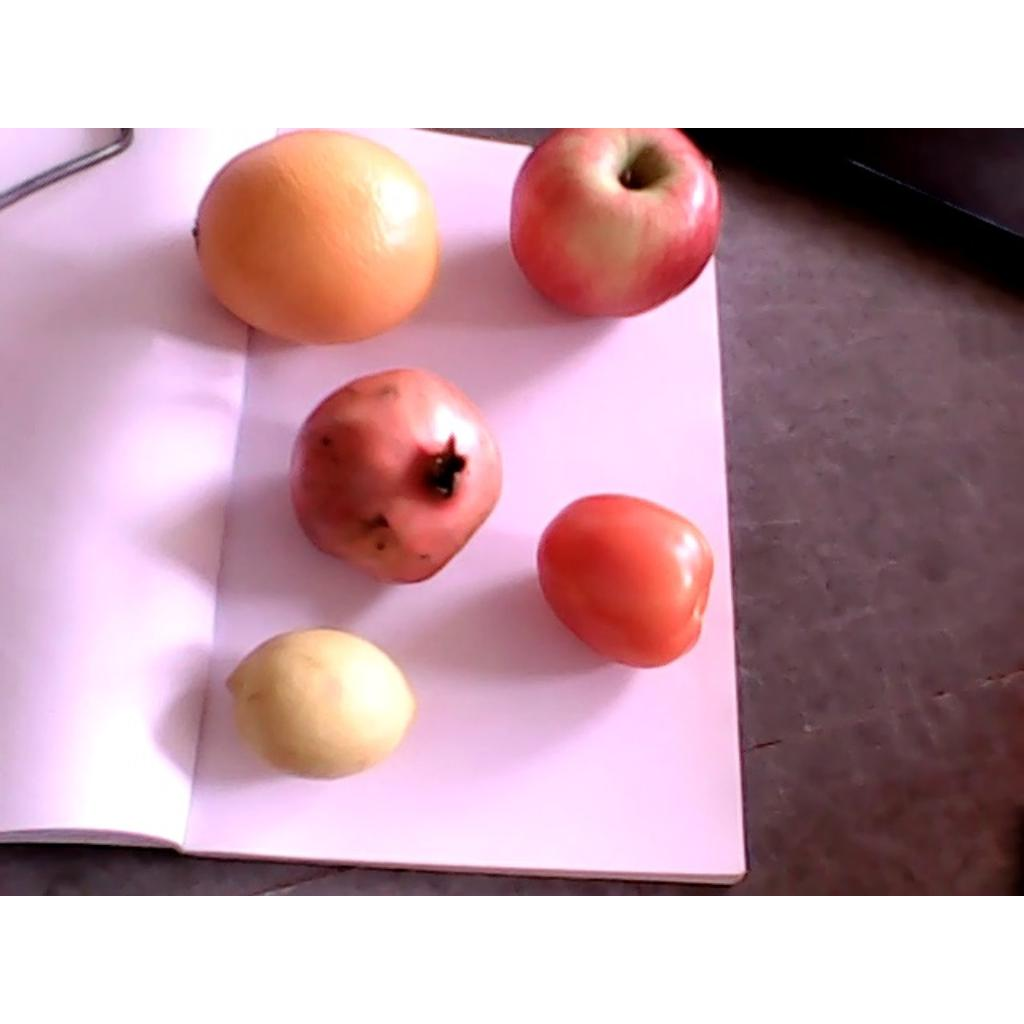apple: (510, 128, 724, 317)
lemon: (227, 629, 417, 782)
orange: (196, 128, 440, 346)
pomegranate: (289, 367, 503, 584)
tomato: (537, 493, 713, 670)
